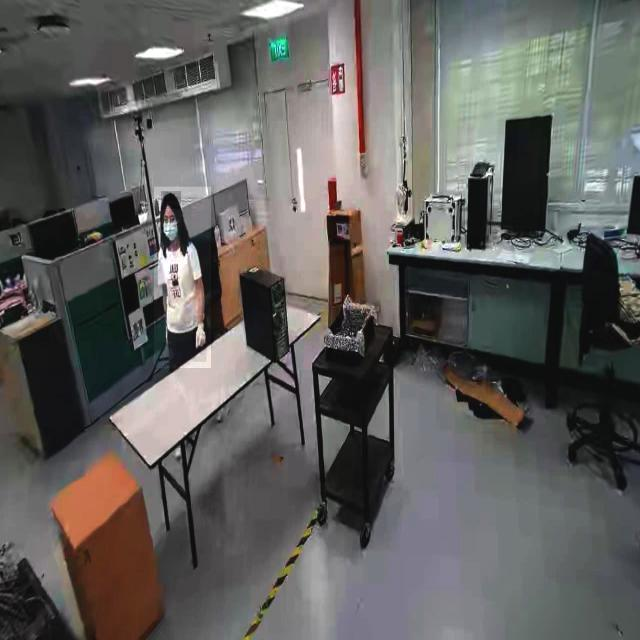face_mask: (159, 201, 181, 253)
hand_glove: (192, 316, 206, 362)
head_nohelmet: (161, 191, 181, 210)
person: (153, 187, 211, 369)
